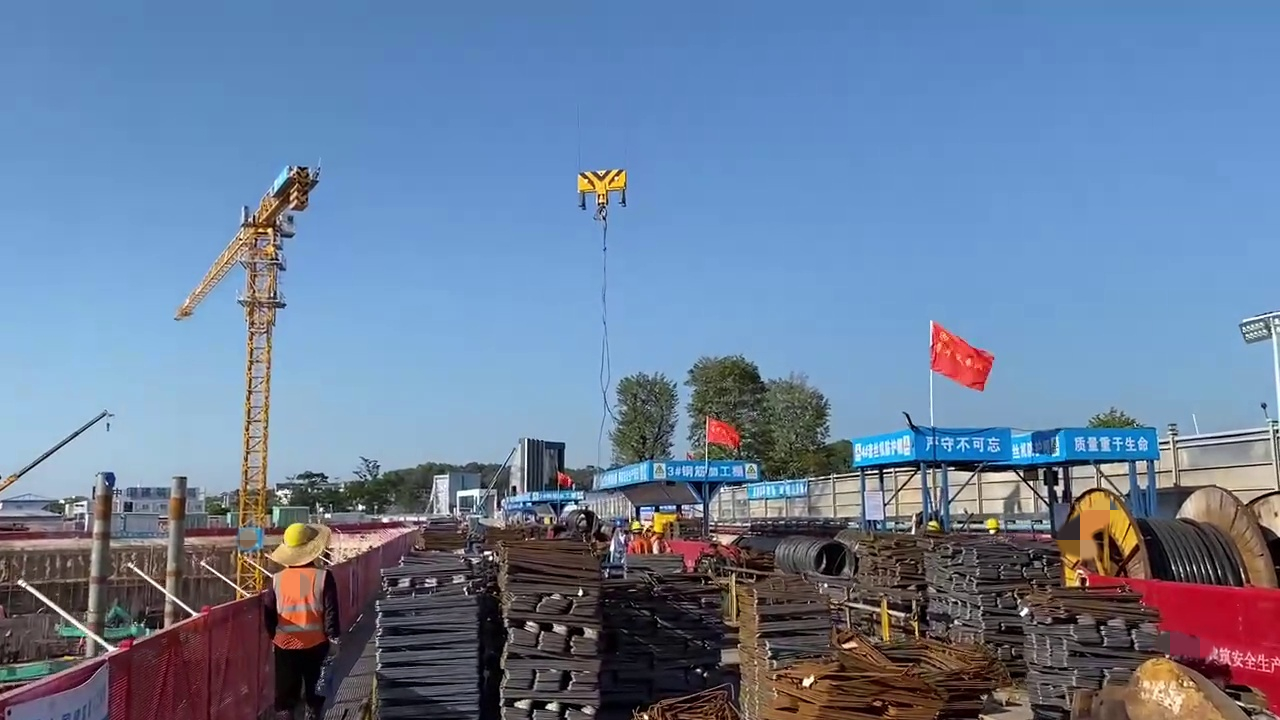fence: (3, 581, 267, 720), (333, 545, 373, 624)
helmet: (282, 523, 315, 548)
hook: (577, 168, 629, 211)
person: (266, 520, 335, 719), (630, 520, 648, 560)
rebar: (497, 538, 613, 720), (375, 557, 484, 720), (823, 616, 986, 720), (1010, 591, 1108, 720), (739, 577, 825, 720), (928, 527, 1017, 655), (864, 527, 935, 620), (634, 674, 738, 720)
slogan: (917, 428, 1012, 458), (1063, 428, 1155, 457)
vest: (274, 569, 326, 654)
